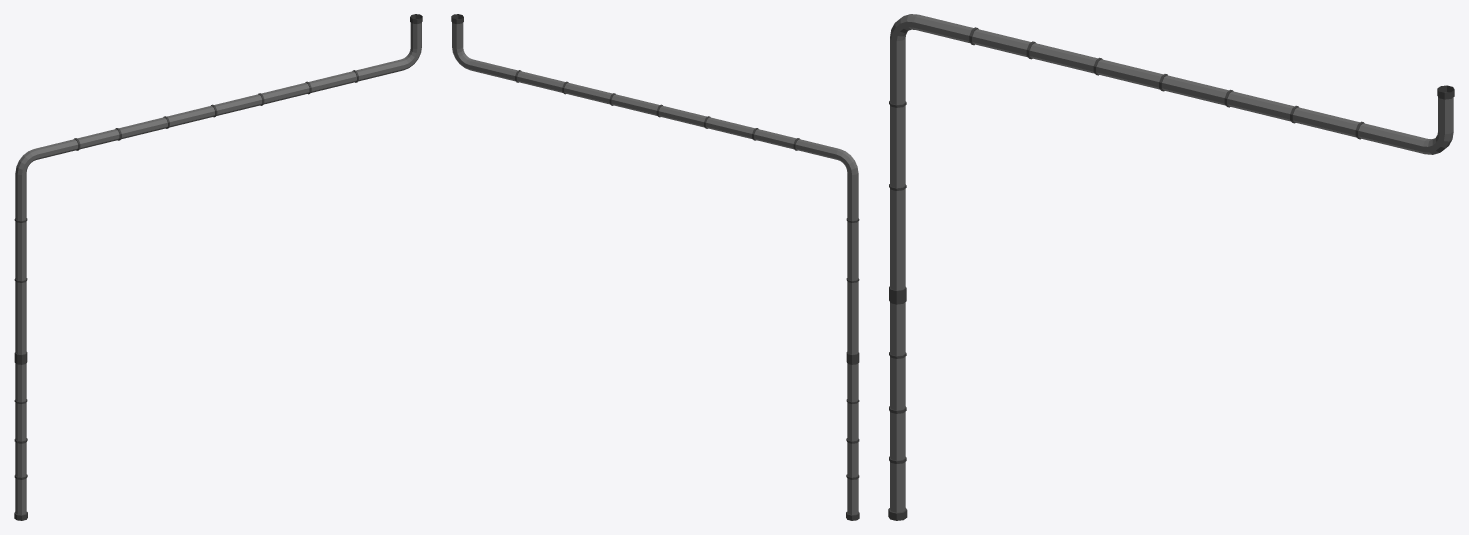
File: WallDecor_05.fbx
3 renders of one model, left to right at view 1: azimuth 30°, elevation 25°; view 2: azimuth 150°, elevation 25°; view 3: azimuth 330°, elevation 25°, orthographic. The views are drawn at different scales.
Visible parts, largest first — view 1: WallDecor_05; view 2: WallDecor_05; view 3: WallDecor_05.
Part boxes in pixels (x1,y1,x2,y2): WallDecor_05: (14, 14, 422, 520); WallDecor_05: (451, 14, 859, 520); WallDecor_05: (888, 14, 1454, 520).
Size of the model in its own units: 944 by 900 by 25.83.
